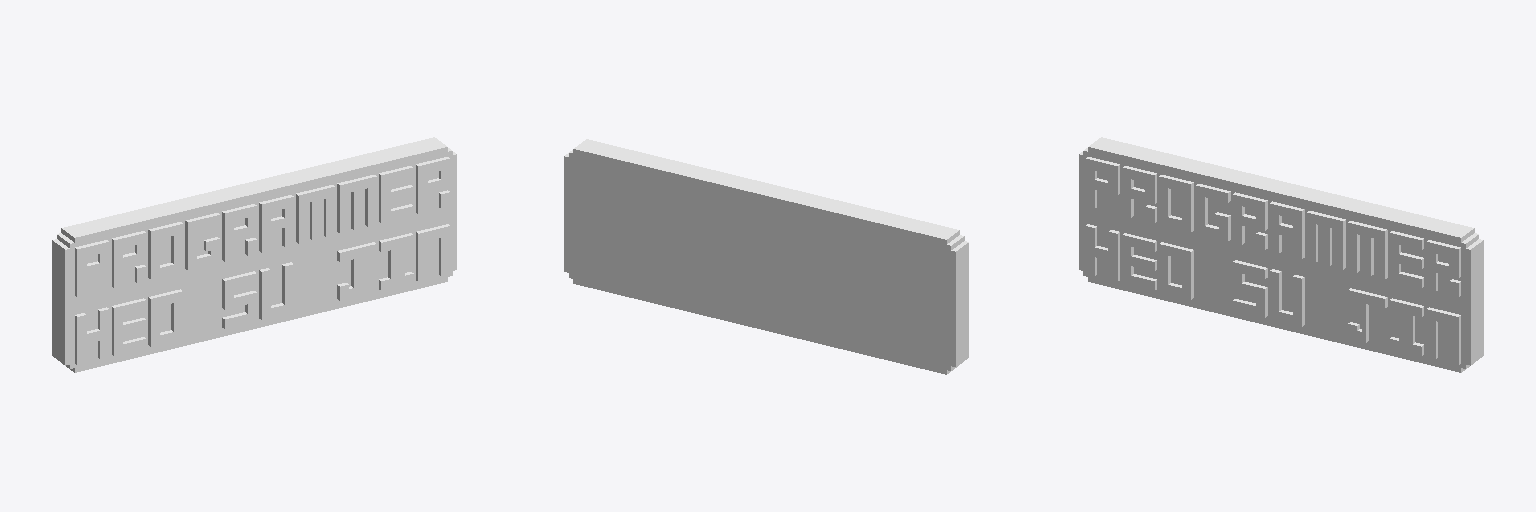
Rendered from Credit_Inform_HSJ.obj.
3 renders of one model, left to right at view 1: azimuth 30°, elevation 25°; view 2: azimuth 150°, elevation 25°; view 3: azimuth 330°, elevation 25°, orthographic.
Size of the model in its own units: 85 by 28 by 6.